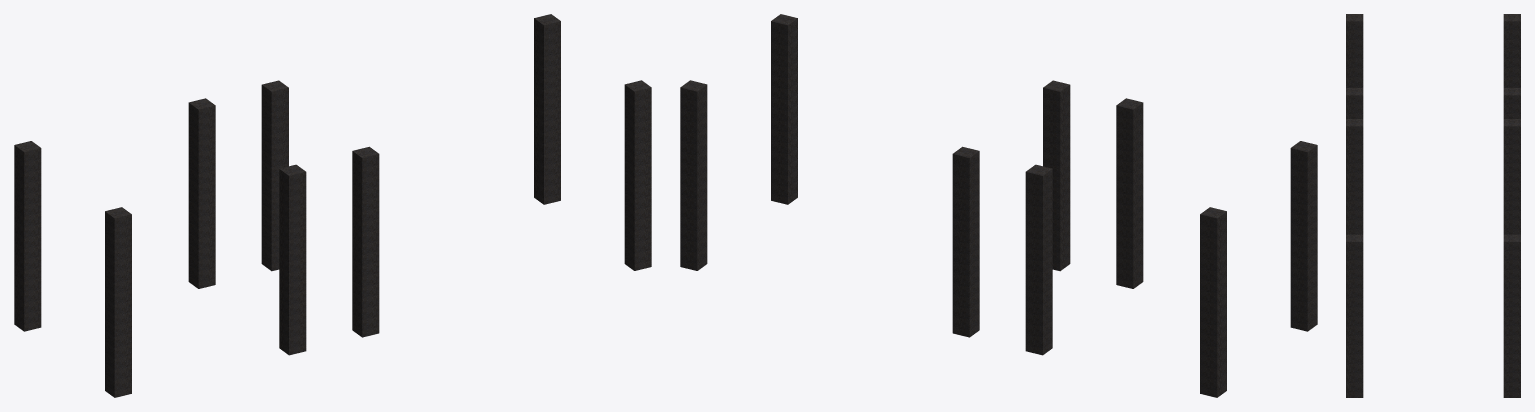
The picture shows the model from 3 angles, left to right: view 1: azimuth 30°, elevation 25°; view 2: azimuth 150°, elevation 25°; view 3: azimuth 270°, elevation 25°; orthographic projection. The views are drawn at different scales.
Parts seen in each view (by area): view 1: Columns_Rectangular 300 x 300 mm [343383]001, Columns_Rectangular 300 x 300 mm [624487]001, Columns_Rectangular 300 x 300 mm [351722]001, Columns_Rectangular 300 x 300 mm [351577]001, Columns_Rectangular 300 x 300 mm [351930]001, Columns_Rectangular 300 x 300 mm [351484]001, Columns_Rectangular 300 x 300 mm [624256]001, Columns_Rectangular 300 x 300 mm [351847]001; view 2: Columns_Rectangular 300 x 300 mm [351484]001, Columns_Rectangular 300 x 300 mm [624256]001, Columns_Rectangular 300 x 300 mm [351577]001, Columns_Rectangular 300 x 300 mm [351722]001, Columns_Rectangular 300 x 300 mm [351847]001, Columns_Rectangular 300 x 300 mm [343383]001, Columns_Rectangular 300 x 300 mm [624487]001, Columns_Rectangular 300 x 300 mm [351930]001; view 3: Columns_Rectangular 300 x 300 mm [624256]001, Columns_Rectangular 300 x 300 mm [624487]001, Columns_Rectangular 300 x 300 mm [351847]001, Columns_Rectangular 300 x 300 mm [351930]001, Columns_Rectangular 300 x 300 mm [343383]001, Columns_Rectangular 300 x 300 mm [351484]001, Columns_Rectangular 300 x 300 mm [351577]001, Columns_Rectangular 300 x 300 mm [351722]001.
Part boxes in pixels (left/top/right/bottom): Columns_Rectangular 300 x 300 mm [343383]001: left=14, top=141, right=41, bottom=331; Columns_Rectangular 300 x 300 mm [624487]001: left=624, top=80, right=651, bottom=270; Columns_Rectangular 300 x 300 mm [351722]001: left=188, top=98, right=215, bottom=288; Columns_Rectangular 300 x 300 mm [351577]001: left=279, top=164, right=306, bottom=355; Columns_Rectangular 300 x 300 mm [351930]001: left=352, top=146, right=379, bottom=337; Columns_Rectangular 300 x 300 mm [351484]001: left=105, top=207, right=131, bottom=397; Columns_Rectangular 300 x 300 mm [624256]001: left=534, top=14, right=560, bottom=204; Columns_Rectangular 300 x 300 mm [351847]001: left=261, top=80, right=288, bottom=271; Columns_Rectangular 300 x 300 mm [351484]001: left=1290, top=141, right=1317, bottom=331; Columns_Rectangular 300 x 300 mm [624256]001: left=680, top=80, right=707, bottom=270; Columns_Rectangular 300 x 300 mm [351577]001: left=1116, top=98, right=1143, bottom=288; Columns_Rectangular 300 x 300 mm [351722]001: left=1025, top=164, right=1052, bottom=355; Columns_Rectangular 300 x 300 mm [351847]001: left=952, top=146, right=979, bottom=337; Columns_Rectangular 300 x 300 mm [343383]001: left=1200, top=207, right=1226, bottom=397; Columns_Rectangular 300 x 300 mm [624487]001: left=771, top=14, right=797, bottom=204; Columns_Rectangular 300 x 300 mm [351930]001: left=1043, top=80, right=1070, bottom=271; Columns_Rectangular 300 x 300 mm [624256]001: left=1503, top=234, right=1520, bottom=397; Columns_Rectangular 300 x 300 mm [624487]001: left=1346, top=234, right=1363, bottom=397; Columns_Rectangular 300 x 300 mm [351847]001: left=1503, top=119, right=1520, bottom=234; Columns_Rectangular 300 x 300 mm [351930]001: left=1346, top=119, right=1363, bottom=234; Columns_Rectangular 300 x 300 mm [343383]001: left=1503, top=14, right=1520, bottom=87; Columns_Rectangular 300 x 300 mm [351484]001: left=1346, top=14, right=1363, bottom=87; Columns_Rectangular 300 x 300 mm [351577]001: left=1346, top=88, right=1363, bottom=118; Columns_Rectangular 300 x 300 mm [351722]001: left=1503, top=88, right=1520, bottom=118.
Bounding box in the file's own units: 9.39 × 3 × 3.04.
1 material, 1 textured.
